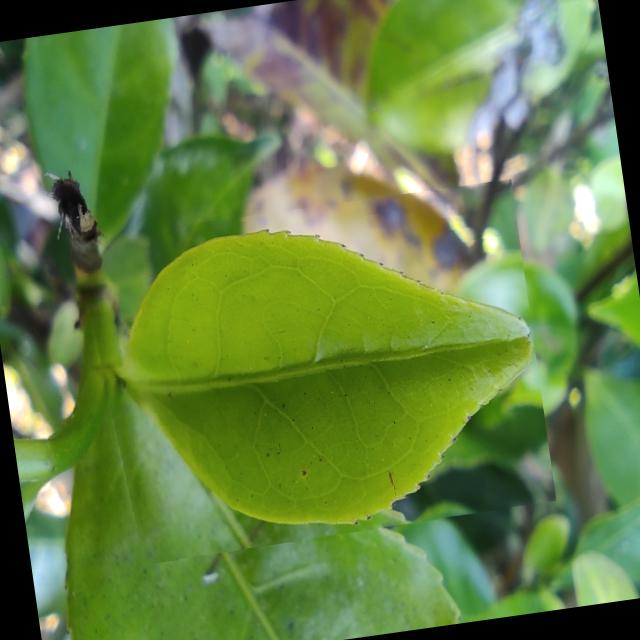Category C 4-7 days: (75, 179, 558, 568)
